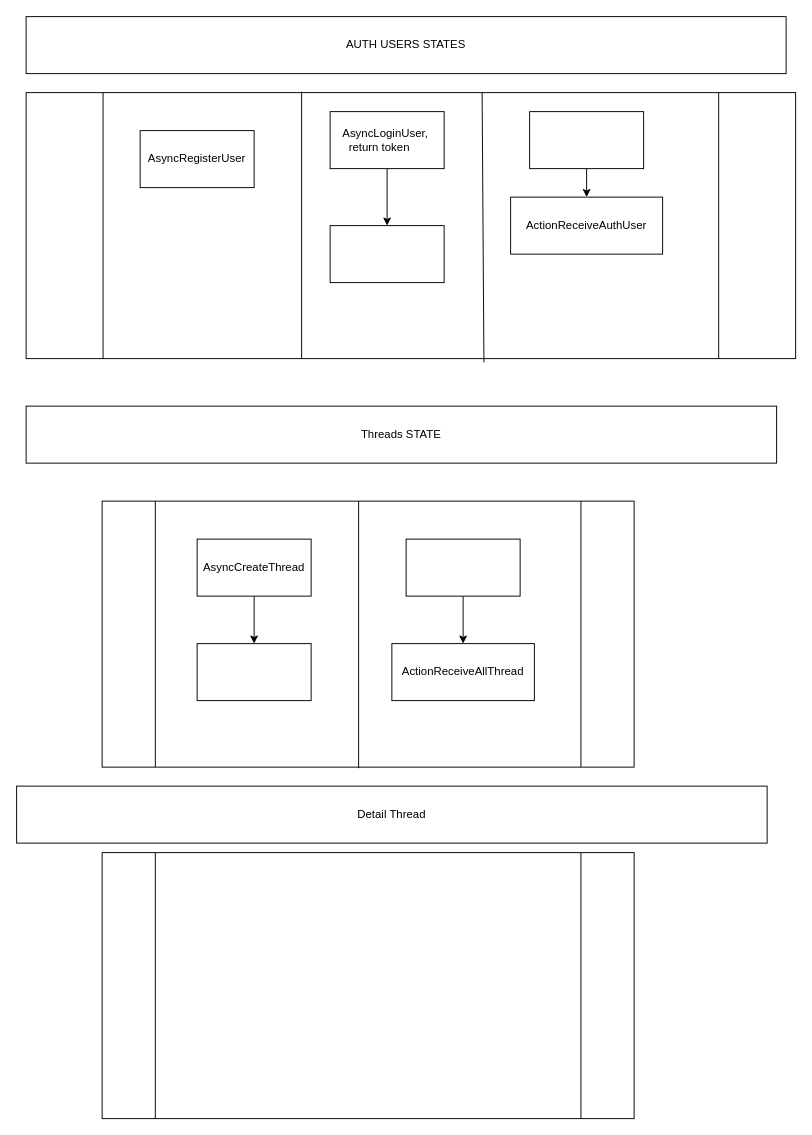
The diagram is 812 pixels wide and 1135 high, and some of its shapes have lost their labels. Here are the shapes that lost their labels. From the top down, the centre of each, then its label:
[586,140]: AsyncAuthUser
[386,254]: save to local storage
[462,567]: AsyncGetAllThreads
[253,672]: ActionAddThread
